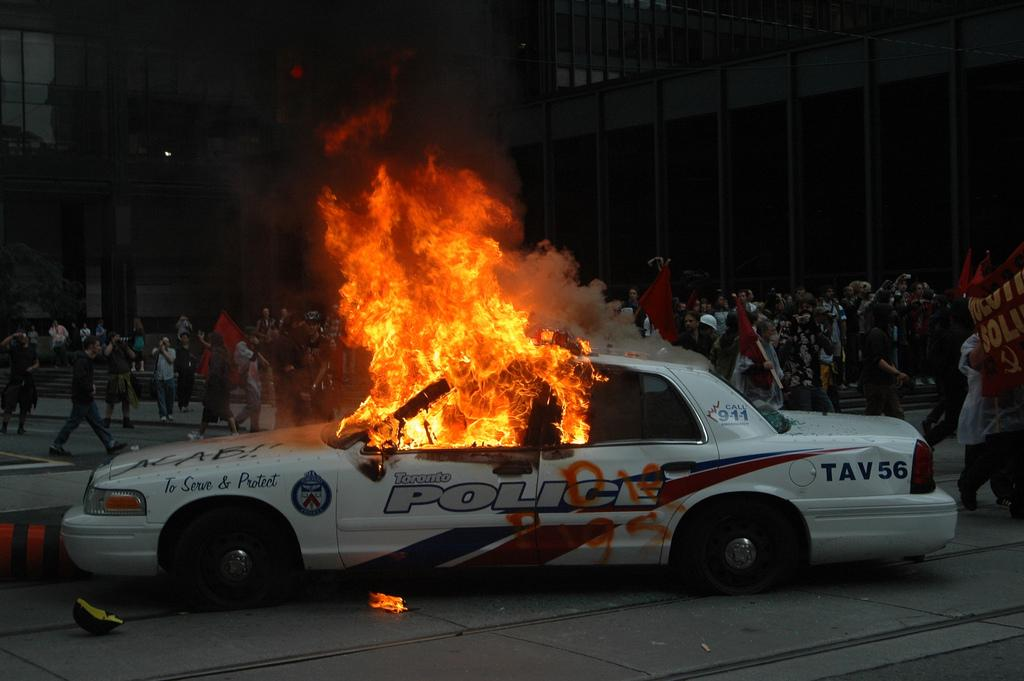fire: (347, 183, 515, 333), (380, 338, 588, 443)
